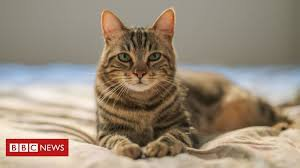cat: (93, 4, 286, 159)
